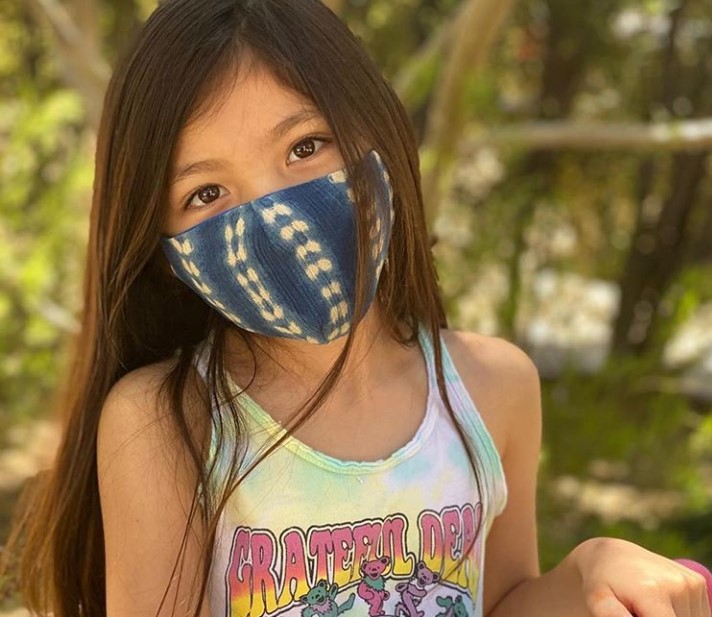face_with_mask: (124, 4, 410, 353)
